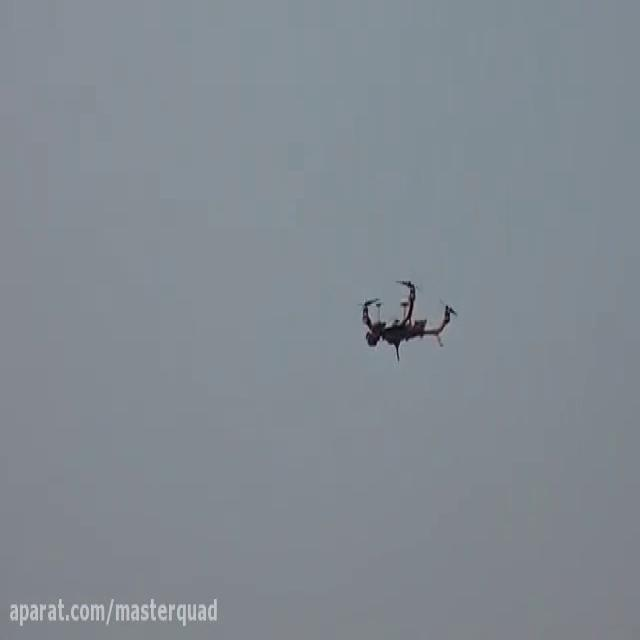drone: (358, 272, 461, 363)
